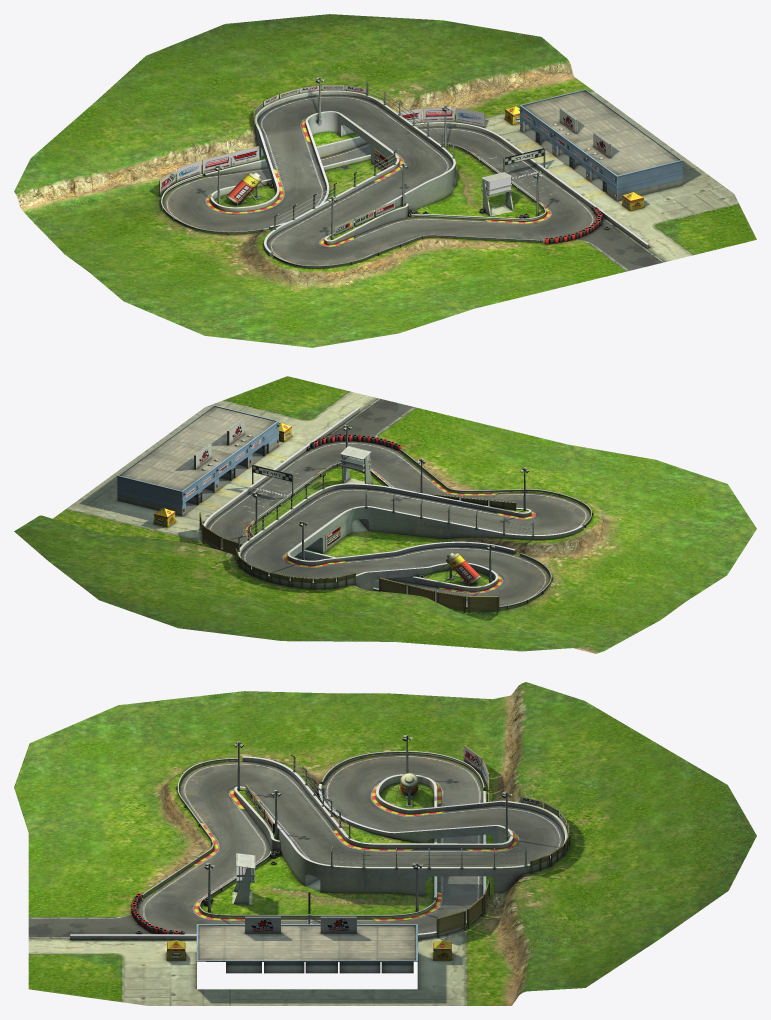
Rendered from raceway_map.glb.
3 views of the same model, one above another, from view 1: azimuth 30°, elevation 25°; view 2: azimuth 150°, elevation 25°; view 3: azimuth 270°, elevation 25° (orthographic). The views are drawn at different scales.
Visible parts, largest first — view 1: Track2_Raceway_01, Track2_Raceway_01_Bridge; view 2: Track2_Raceway_01, Track2_Raceway_01_Bridge; view 3: Track2_Raceway_01, Track2_Raceway_01_Bridge.
Part boxes in pixels (<box>): Track2_Raceway_01: <box>14,14,756,347</box>; Track2_Raceway_01_Bridge: <box>262,97,415,184</box>; Track2_Raceway_01: <box>14,376,756,653</box>; Track2_Raceway_01_Bridge: <box>253,504,419,578</box>; Track2_Raceway_01: <box>14,682,756,1005</box>; Track2_Raceway_01_Bridge: <box>424,802,483,896</box>.
Size of what is drawn, in the model's own units: 1.62 by 0.1959 by 1.62.
4 materials, 3 textured.
